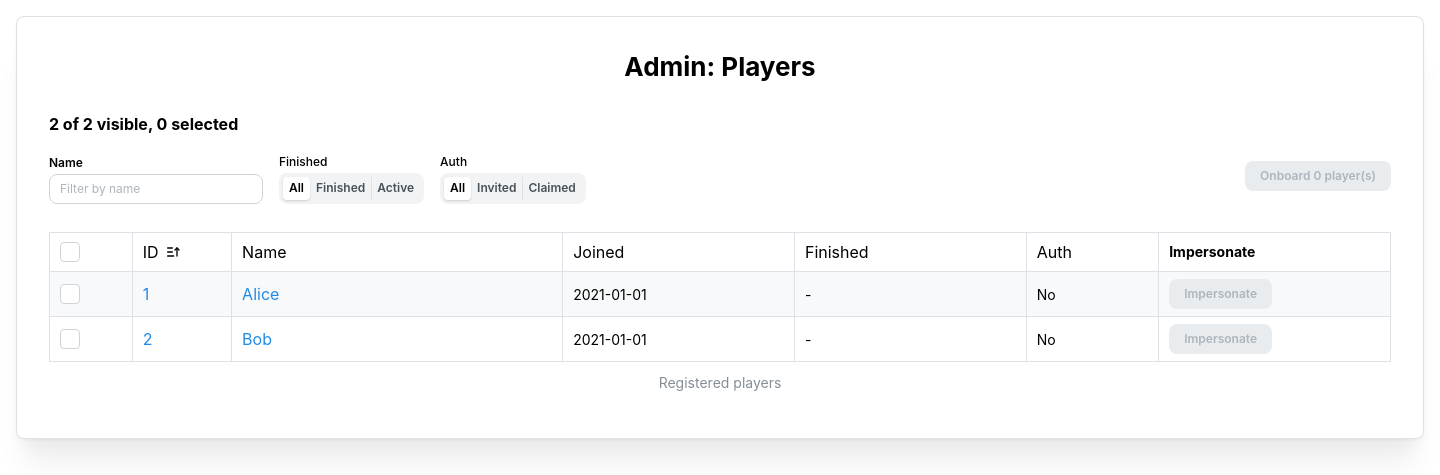
Scenario: AdminPlayerList › filter and sort together › clears filter while keeping sort state
Note: Sort by Name
Click the button with aria-label "Sort by Name".
click(264, 252)  # box 242,240 -> 286,264
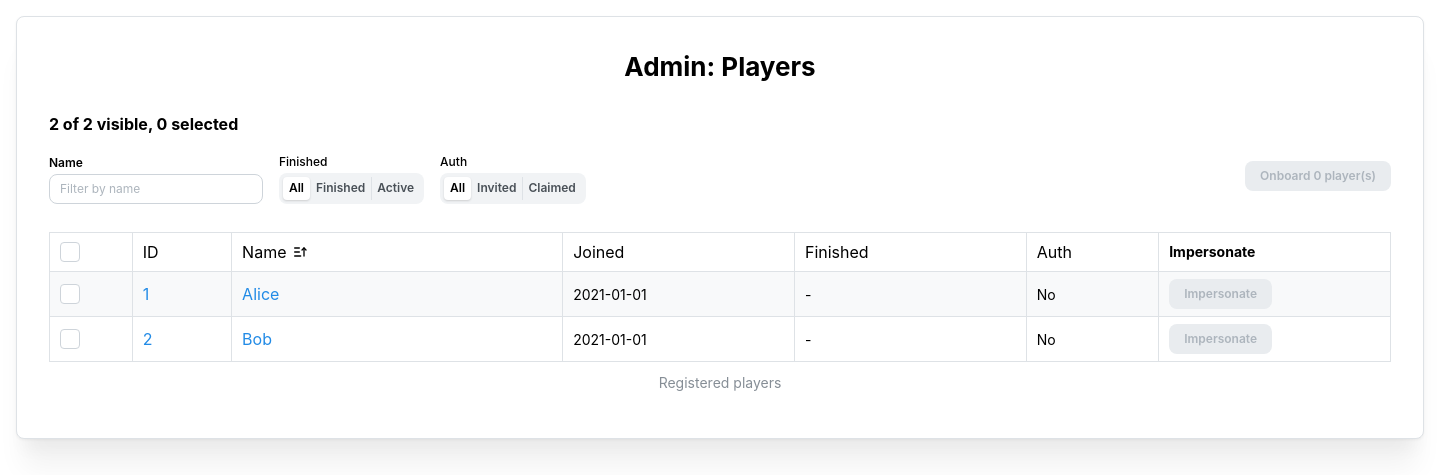
Type "Bob" into the field with placeholder "Filter by name".
click(156, 189); type("Bob")  # box 49,174 -> 263,204
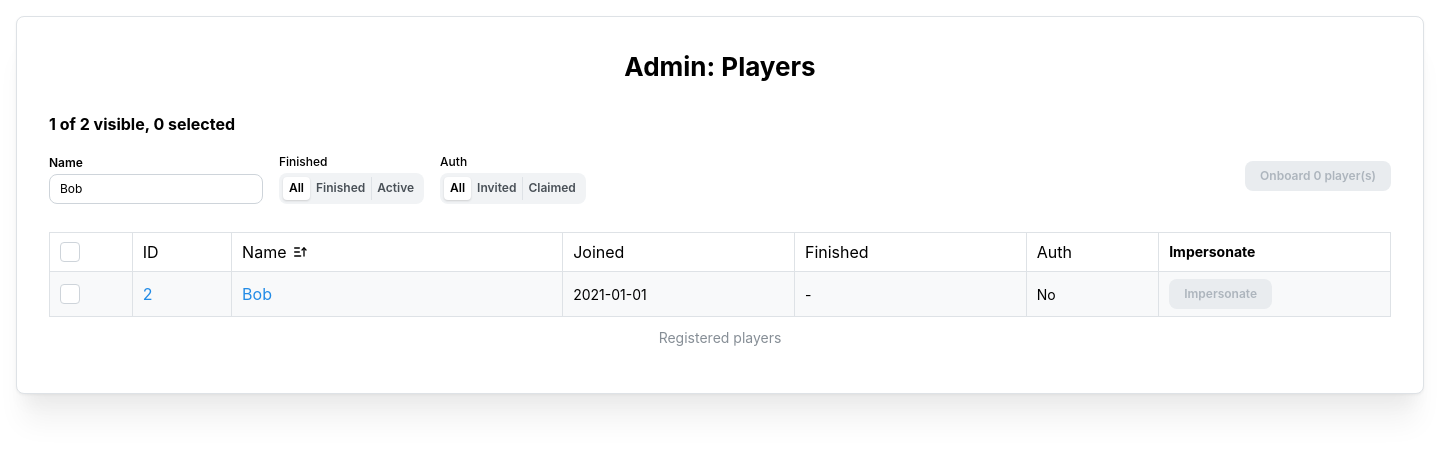
Expected: the link "Bob" is shown, 242,284 -> 272,304
Note: Clear filter
Clear the field with placeholder "Filter by name" at (156, 189), box 49,174 -> 263,204
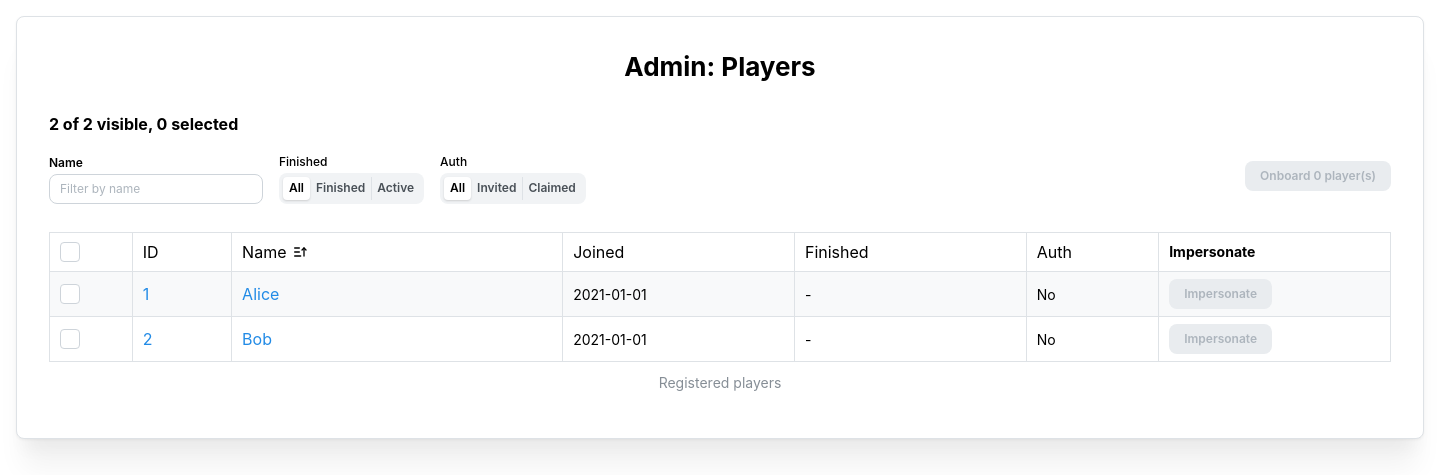
Expected: the link "Bob" is shown, 242,329 -> 272,349
Expected: the link "Alice" is shown, 242,284 -> 279,304
